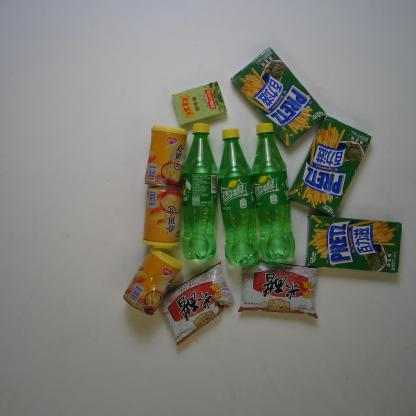Candy: (172, 81, 228, 126)
Canned Food: (123, 248, 183, 316), (144, 125, 188, 188), (143, 186, 183, 250)
Dessert: (230, 46, 327, 150), (289, 115, 372, 218), (305, 214, 402, 274)
Drink: (217, 128, 260, 266), (252, 123, 295, 260), (182, 123, 218, 261)
Seasoner: (159, 261, 234, 346), (238, 260, 322, 320)
